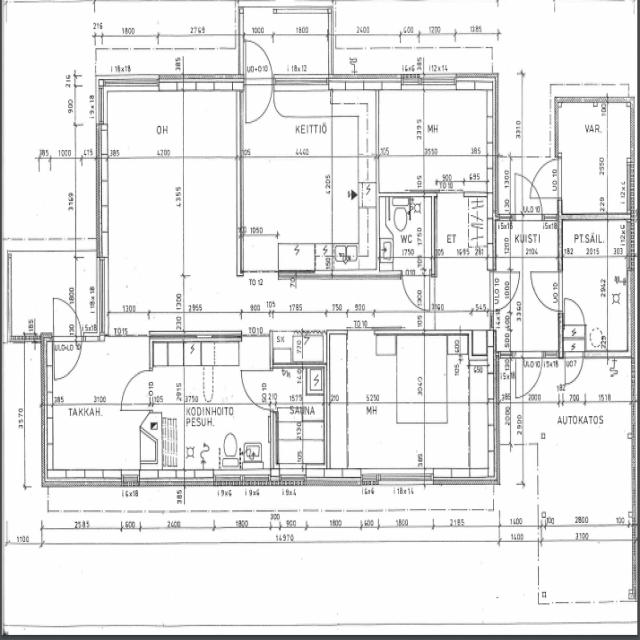door: (487, 270, 526, 311), (53, 332, 81, 382), (246, 38, 272, 91), (246, 75, 272, 128), (53, 292, 81, 341), (242, 371, 275, 410), (530, 159, 562, 199), (530, 272, 562, 312), (121, 370, 152, 410), (402, 270, 430, 314), (516, 351, 542, 396), (516, 176, 542, 220), (244, 330, 269, 370), (350, 330, 374, 370), (564, 351, 584, 384), (565, 297, 584, 328)
